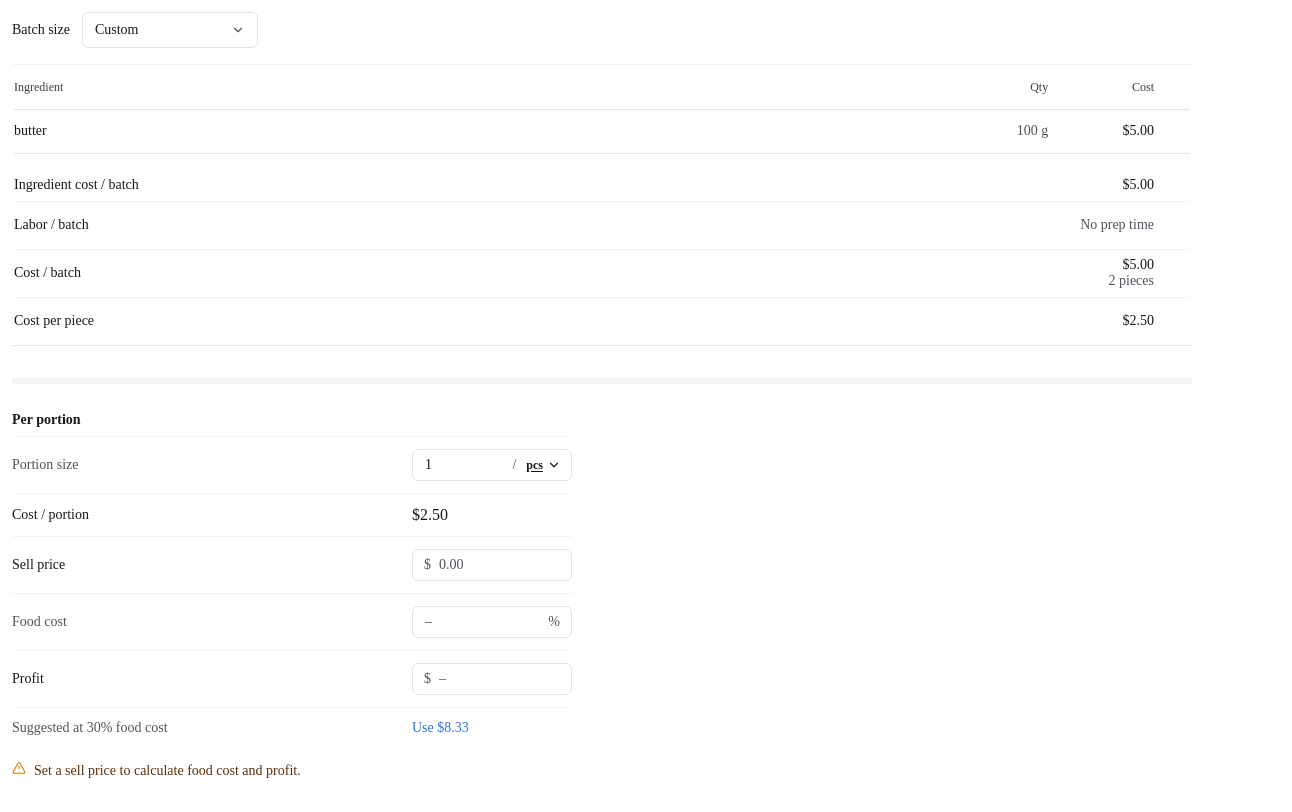
it: the food cost calculator › uses and saves the suggested price
Click the button "Use $8.33". click: coordinates (492, 728)
box: left=412, top=720, right=572, bottom=736
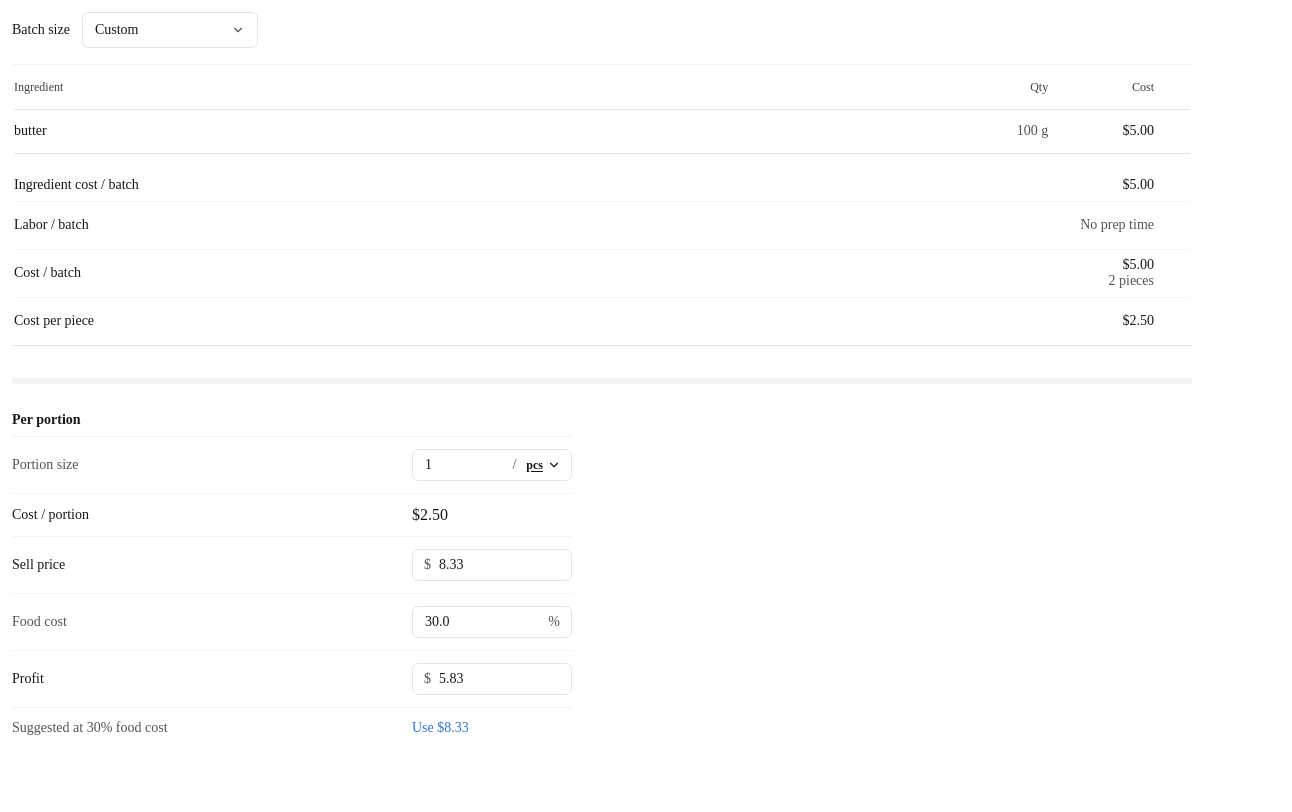
expect the number field named "Sell price" holds "8.33": met, box left=412, top=549, right=572, bottom=581
